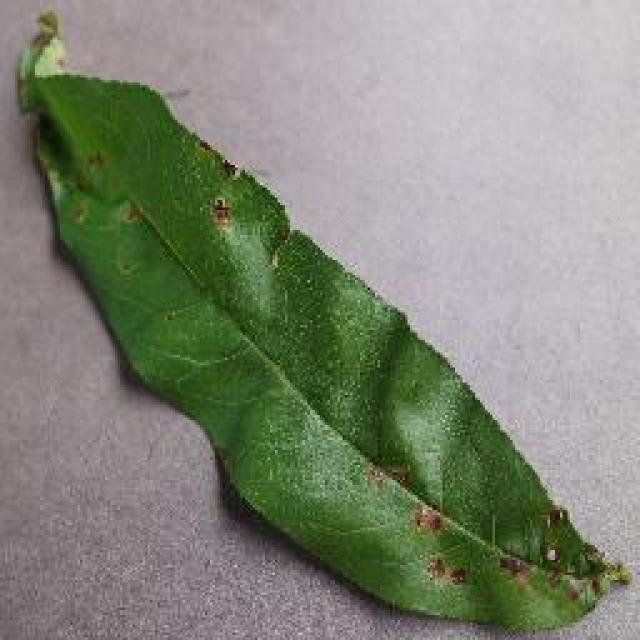Bacterial_spot: (394, 484, 572, 612), (202, 192, 259, 250), (75, 141, 131, 192)
